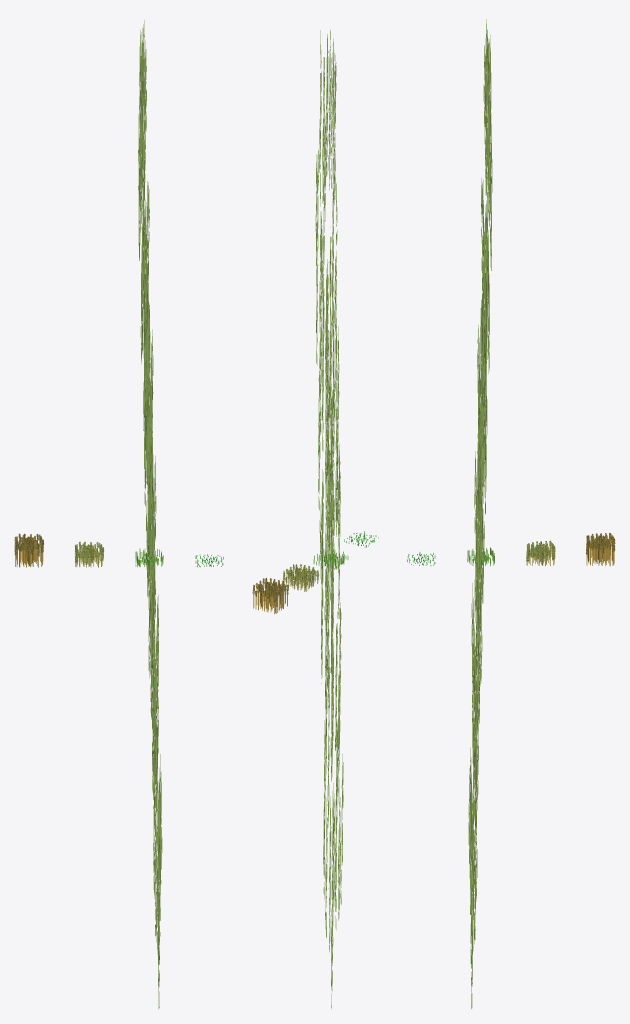
Rendered from ble.fbx.
The picture shows the model from 3 angles, left to right: view 1: azimuth 90°, elevation 25°; view 2: azimuth 150°, elevation 25°; view 3: azimuth 270°, elevation 25°; orthographic projection.
Visible parts, largest first — view 1: Plane.448, Cube.047, Plane.099, Cube.164; view 2: Plane.448, Cube.047, Plane.099, Cube.164, Plane.247, Cube.220; view 3: Plane.448, Cube.047.
Part boxes in pixels (left/top/right/bottom): Plane.448: left=138, top=20, right=162, bottom=1009; Cube.047: left=15, top=535, right=43, bottom=567; Plane.099: left=14, top=533, right=43, bottom=556; Cube.164: left=75, top=542, right=103, bottom=567; Plane.448: left=315, top=29, right=343, bottom=1008; Cube.047: left=253, top=579, right=287, bottom=614; Plane.099: left=252, top=578, right=288, bottom=602; Cube.164: left=283, top=564, right=318, bottom=591; Plane.247: left=283, top=564, right=318, bottom=587; Cube.220: left=313, top=549, right=348, bottom=569; Plane.448: left=468, top=19, right=492, bottom=1008; Cube.047: left=586, top=533, right=614, bottom=566.
Bounding box in the file's own units: 50.11 × 1833 × 348.
